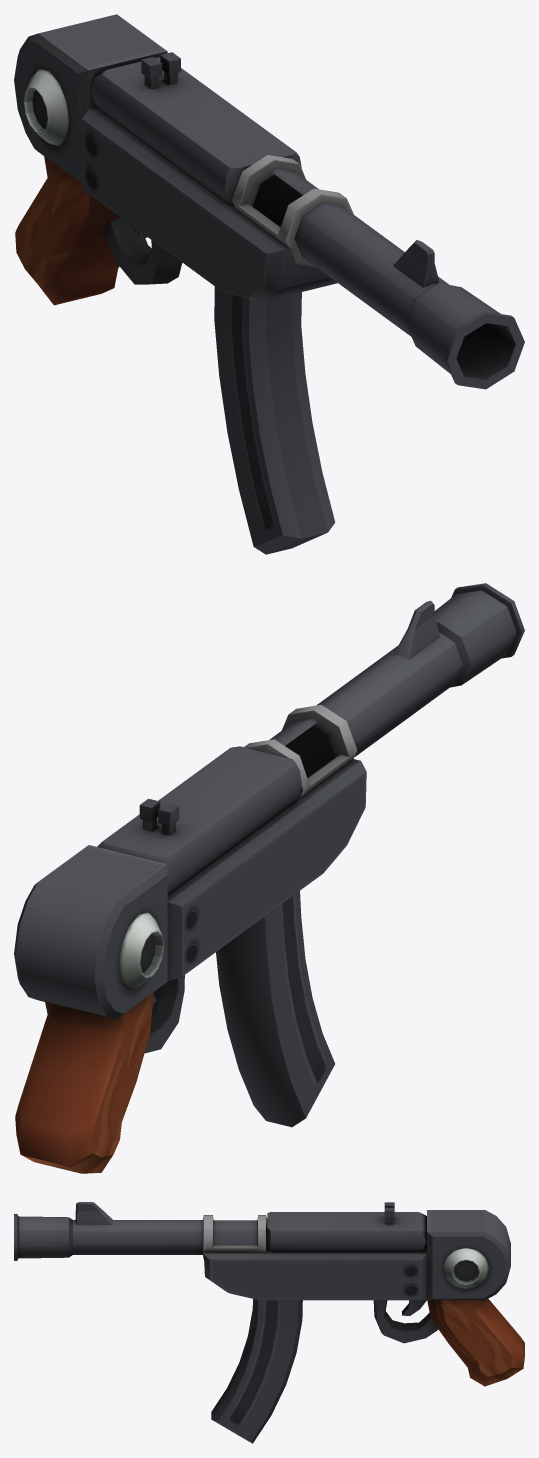
The model's file is gun_e02.fbx.
3 renders of one model, top to bottom at view 1: azimuth 30°, elevation 25°; view 2: azimuth 150°, elevation 25°; view 3: azimuth 270°, elevation 25°, orthographic. The views are drawn at different scales.
Visible parts, largest first — view 1: gun_e02_02, gun_e02_01; view 2: gun_e02_02, gun_e02_01; view 3: gun_e02_02, gun_e02_01.
Boxes of the visible parts, x1=… form: gun_e02_02: x1=14, y1=14, x2=524, y2=389; gun_e02_01: x1=214, y1=286, x2=335, y2=554; gun_e02_02: x1=14, y1=583, x2=524, y2=1173; gun_e02_01: x1=216, y1=891, x2=334, y2=1127; gun_e02_02: x1=14, y1=1202, x2=524, y2=1386; gun_e02_01: x1=211, y1=1299, x2=302, y2=1443.
Size of the model in its own units: 14.32 by 94.73 by 48.65.
